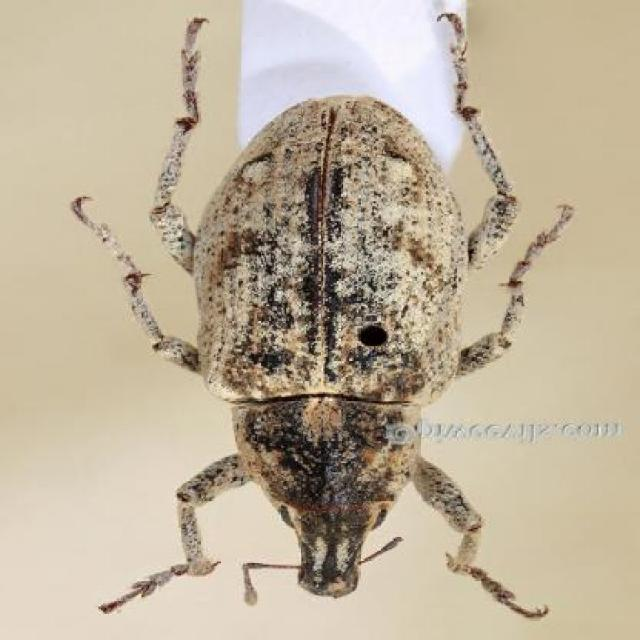rice-bug: (100, 12, 531, 608)
